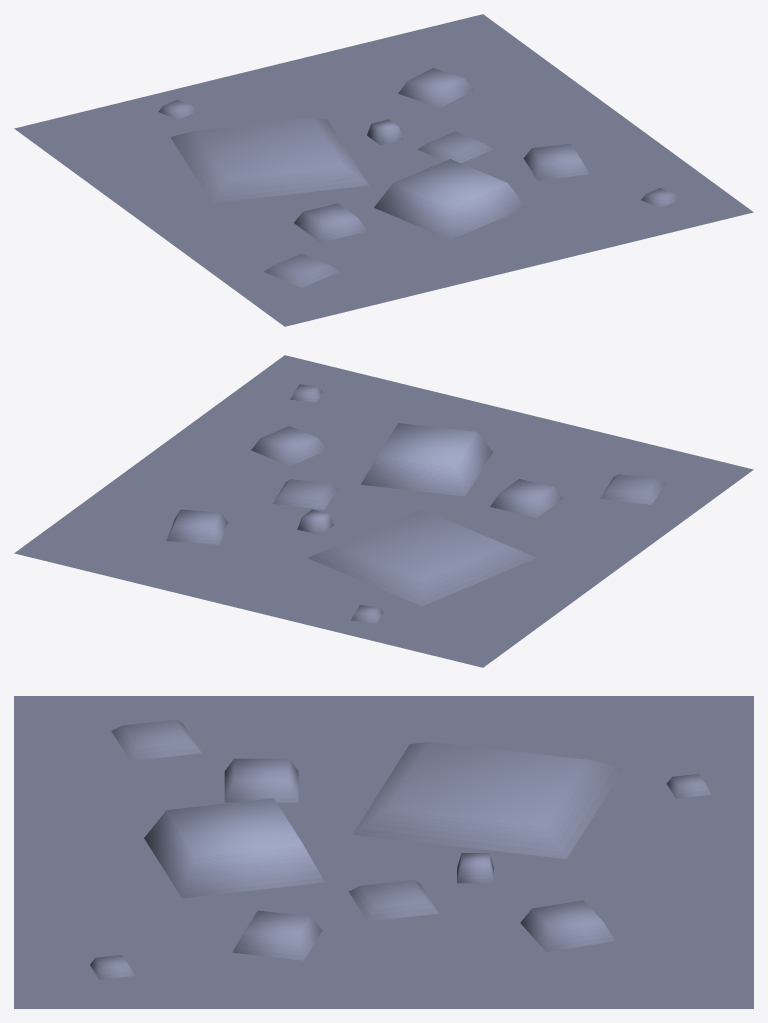
The model's file is floor-detail.glb.
3 views of the same model, one above another, from view 1: azimuth 30°, elevation 25°; view 2: azimuth 150°, elevation 25°; view 3: azimuth 270°, elevation 25° (orthographic). The views are drawn at different scales.
Visible parts, largest first — view 1: floor-detail; view 2: floor-detail; view 3: floor-detail.
Boxes of the visible parts, x1=… form: floor-detail: x1=14, y1=14, x2=753, y2=326; floor-detail: x1=14, y1=355, x2=753, y2=667; floor-detail: x1=14, y1=696, x2=753, y2=1008.
Size of the model in its own units: 1 by 0.05 by 1.
1 material, 1 textured.
